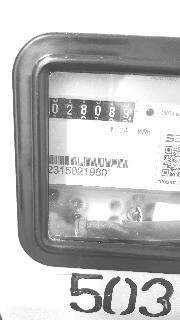1: (53, 104, 58, 114), (96, 105, 101, 115)
3: (66, 105, 72, 115)
9: (110, 107, 115, 117), (82, 105, 87, 115)
object: (123, 110, 129, 119)
